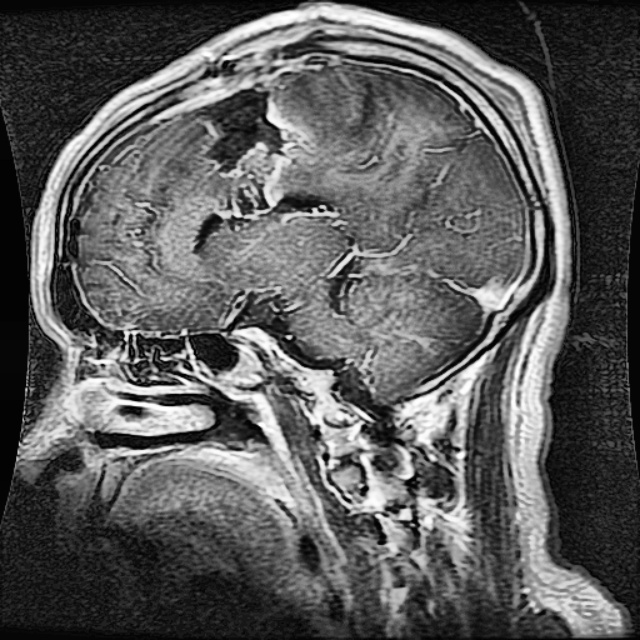Meningioma: (189, 85, 340, 252)
